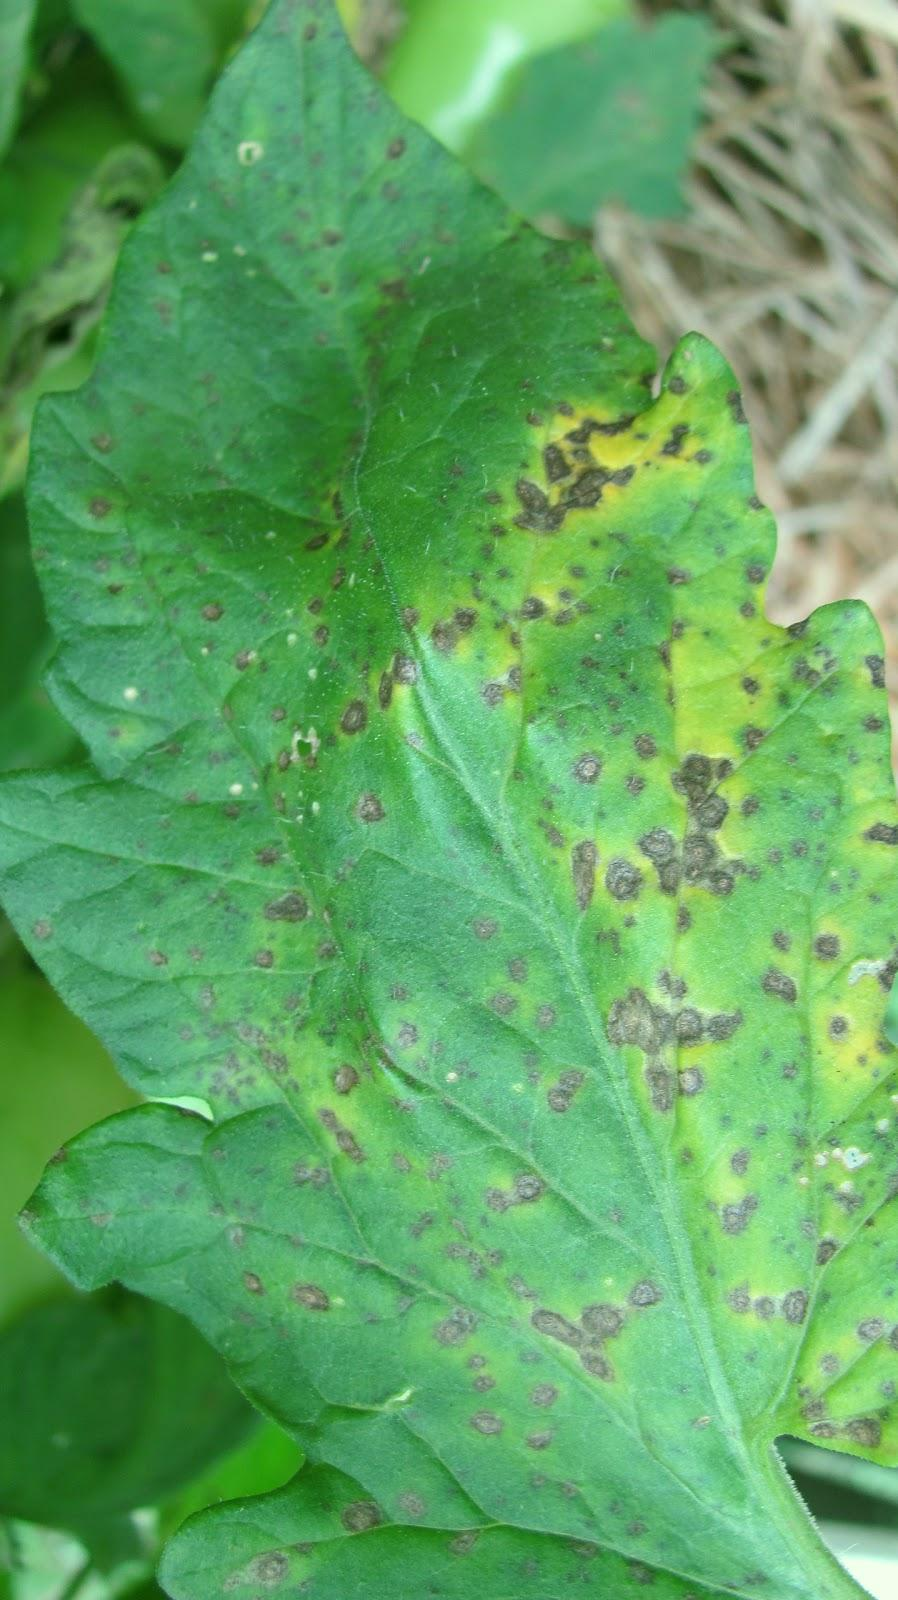Tomato Septoria leaf spot: (25, 54, 860, 1563)
